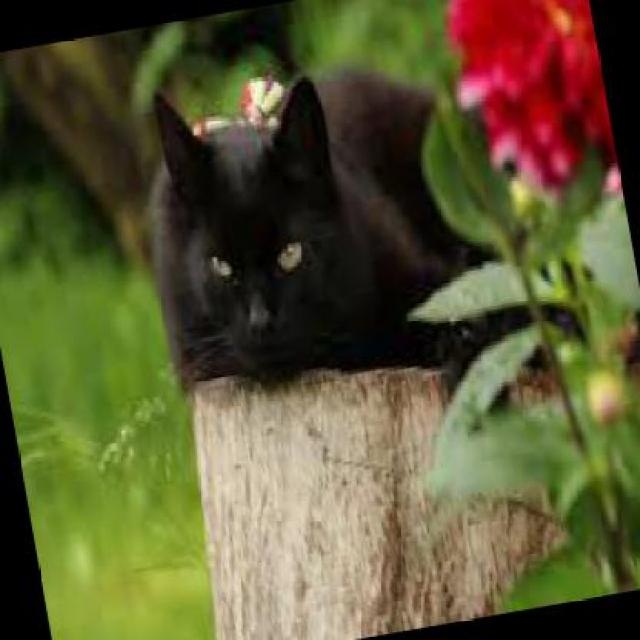animals: (115, 42, 482, 398)
